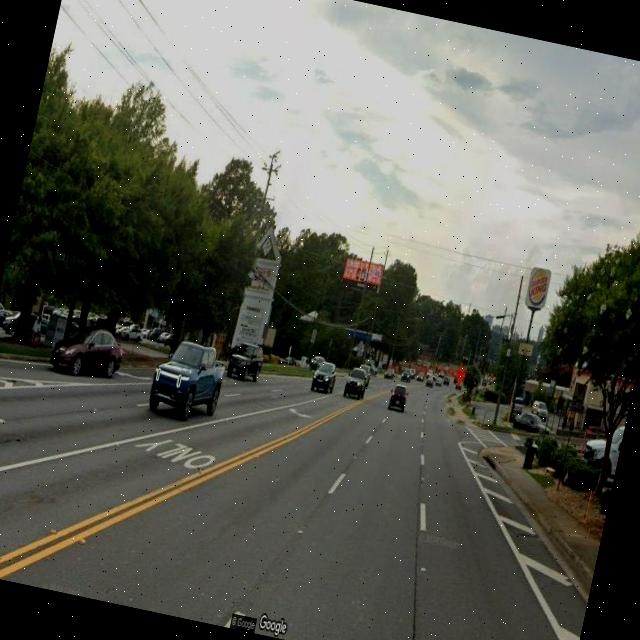trash_can: (522, 442, 537, 469)
